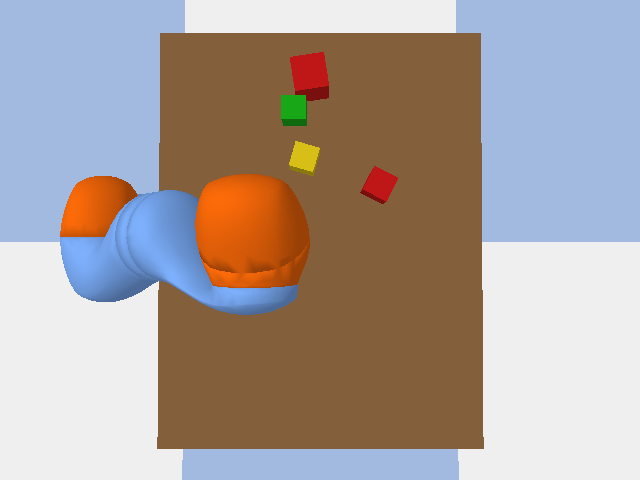green_obj: (281, 95, 306, 125)
red_obj: (290, 52, 328, 100), (360, 166, 397, 203)
yellow_obj: (289, 141, 319, 175)
